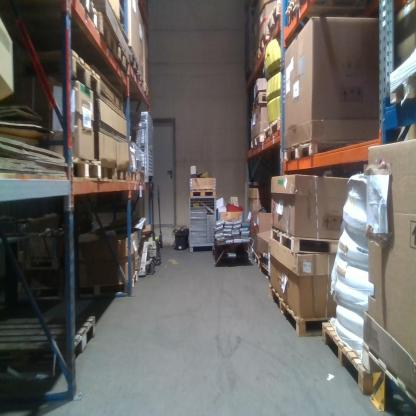pallet: (0, 310, 97, 367), (320, 320, 382, 393), (359, 336, 415, 414), (269, 283, 343, 336), (24, 48, 101, 98), (279, 138, 370, 162), (270, 226, 343, 254), (78, 268, 138, 298), (94, 8, 116, 59), (12, 281, 64, 301), (13, 252, 65, 271), (71, 1, 99, 33), (70, 156, 100, 183), (266, 1, 282, 39), (284, 1, 309, 23), (263, 116, 282, 142), (113, 161, 129, 187), (95, 161, 113, 183), (117, 43, 129, 75), (252, 93, 268, 113), (129, 45, 138, 79), (257, 31, 266, 63), (250, 132, 264, 152), (190, 188, 214, 198), (127, 164, 137, 188), (136, 169, 145, 186), (139, 74, 144, 92), (145, 82, 149, 102)
pallet_truck: (130, 170, 161, 282), (156, 179, 163, 274)
stillage: (188, 194, 219, 255)
